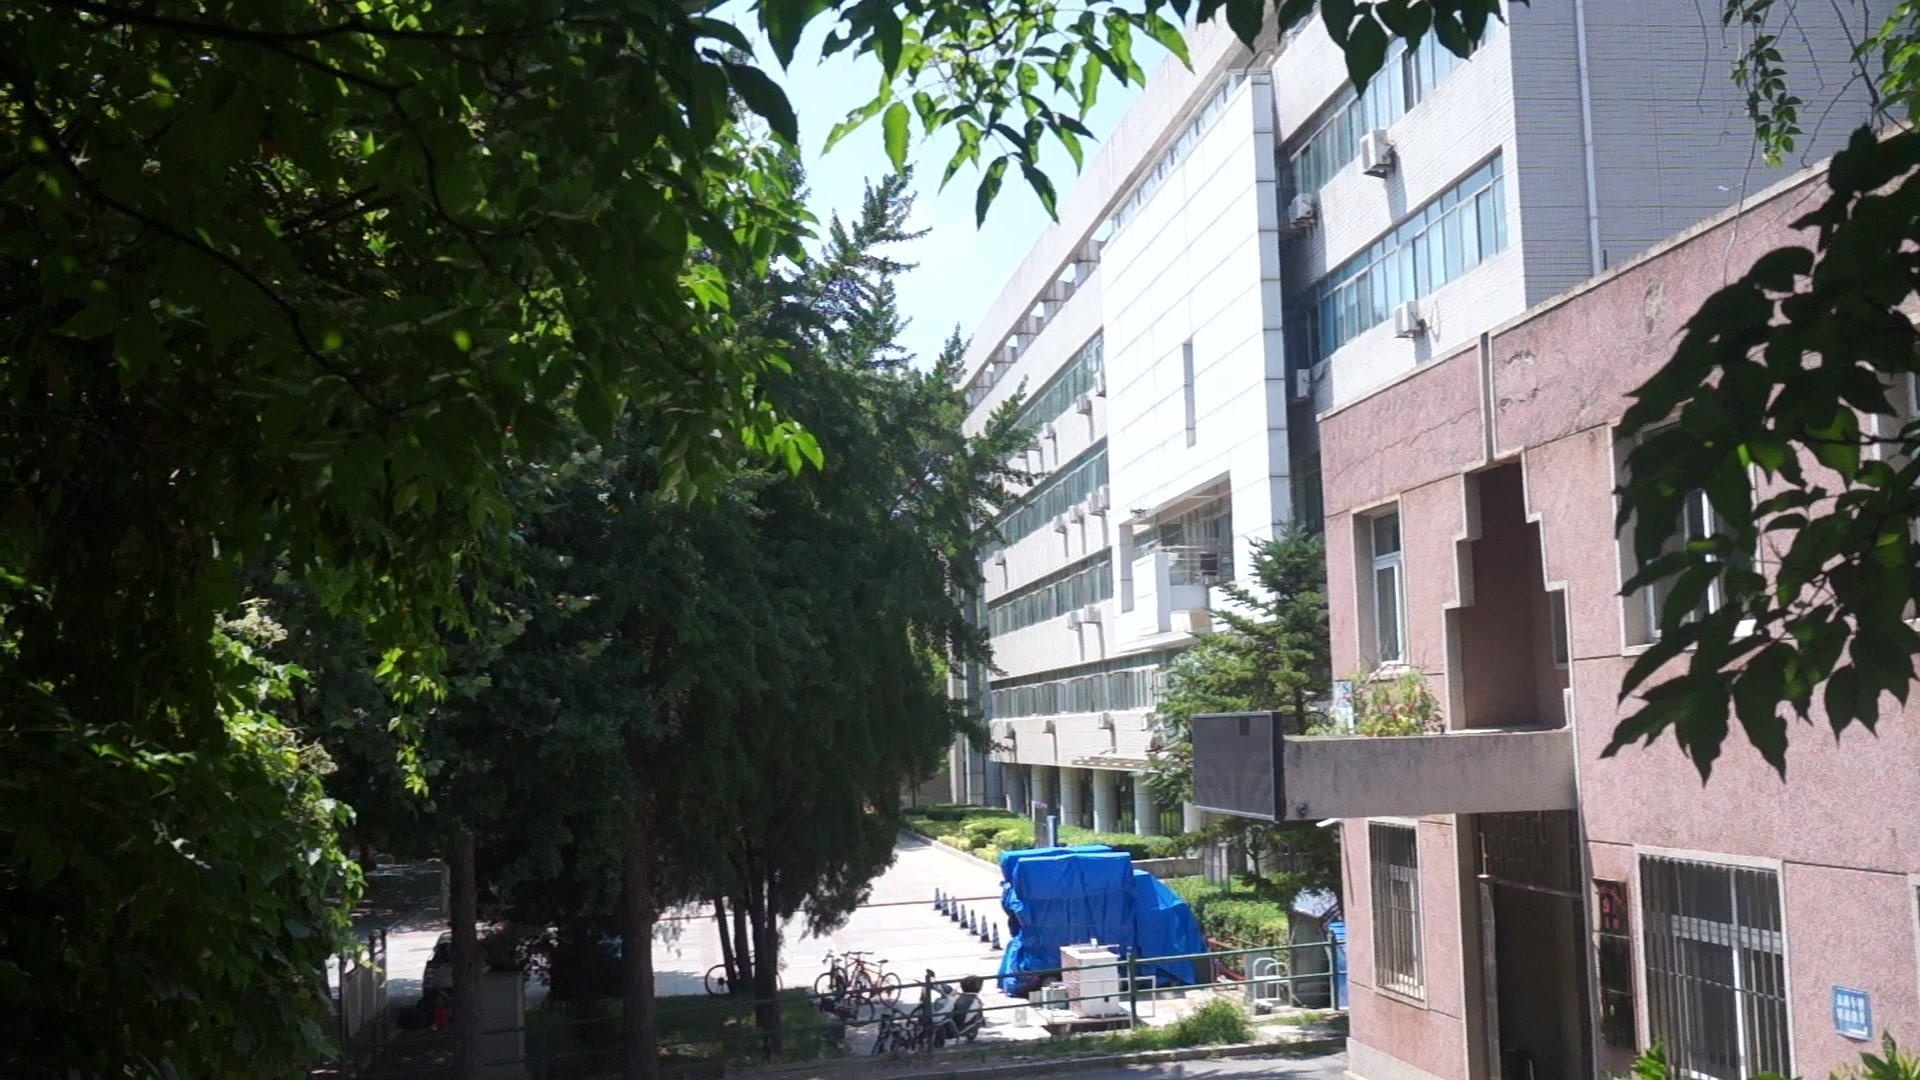UAV: (1130, 509, 1153, 521)
